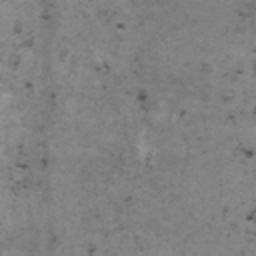Oxide scale of temperature system: (178, 61, 256, 159), (8, 6, 56, 100), (14, 143, 49, 172), (95, 63, 111, 76), (136, 90, 150, 102), (244, 207, 256, 220), (87, 246, 97, 256), (115, 22, 125, 31), (124, 195, 132, 205)
